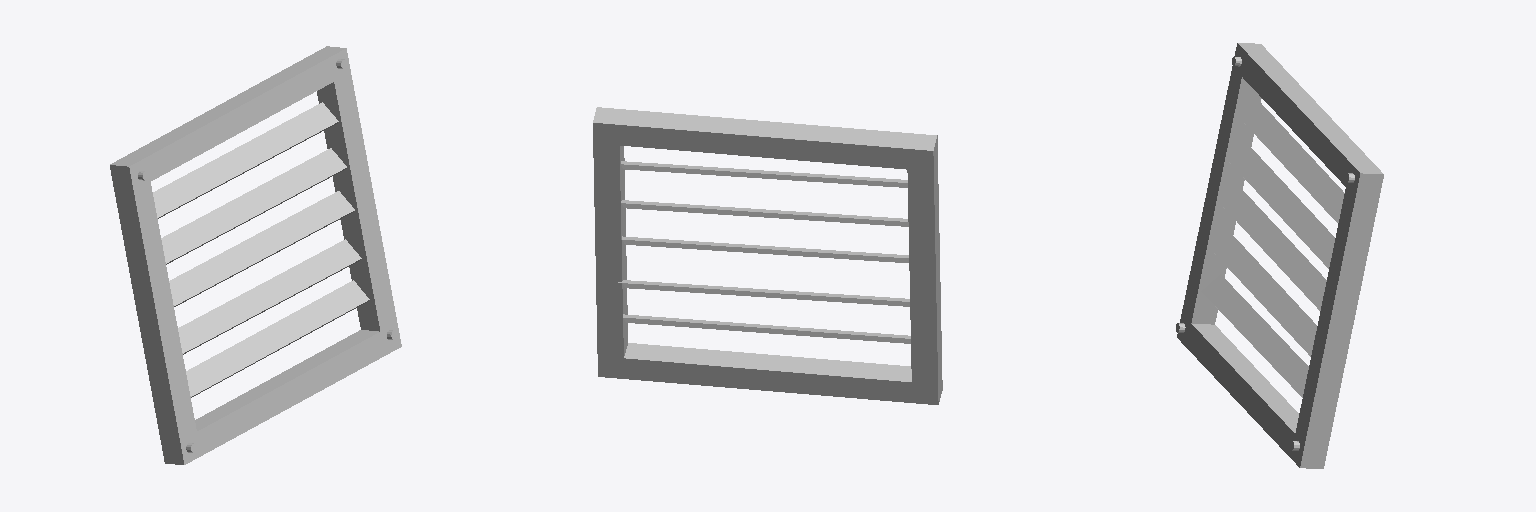
The model's file is vent.obj.
3 views of the same model, side by side, from view 1: azimuth 30°, elevation 25°; view 2: azimuth 150°, elevation 25°; view 3: azimuth 270°, elevation 25° (orthographic).
Visible parts, largest first — view 1: group[number redacted]; view 2: group[number redacted]; view 3: group[number redacted].
Boxes of the visible parts, <box> form: group[number redacted]: <box>110,46,401,464</box>; group[number redacted]: <box>593,107,942,404</box>; group[number redacted]: <box>1176,43,1383,468</box>.
Bounding box in the file's own units: 1.11 × 0.9933 × 0.6411.